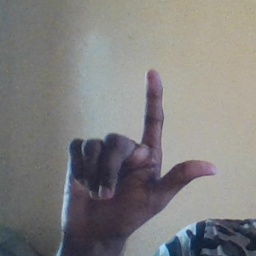L: (57, 65, 219, 238)
